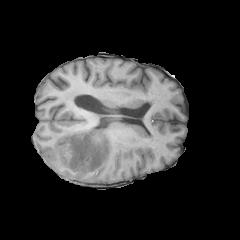glioma: (44, 124, 127, 182)
